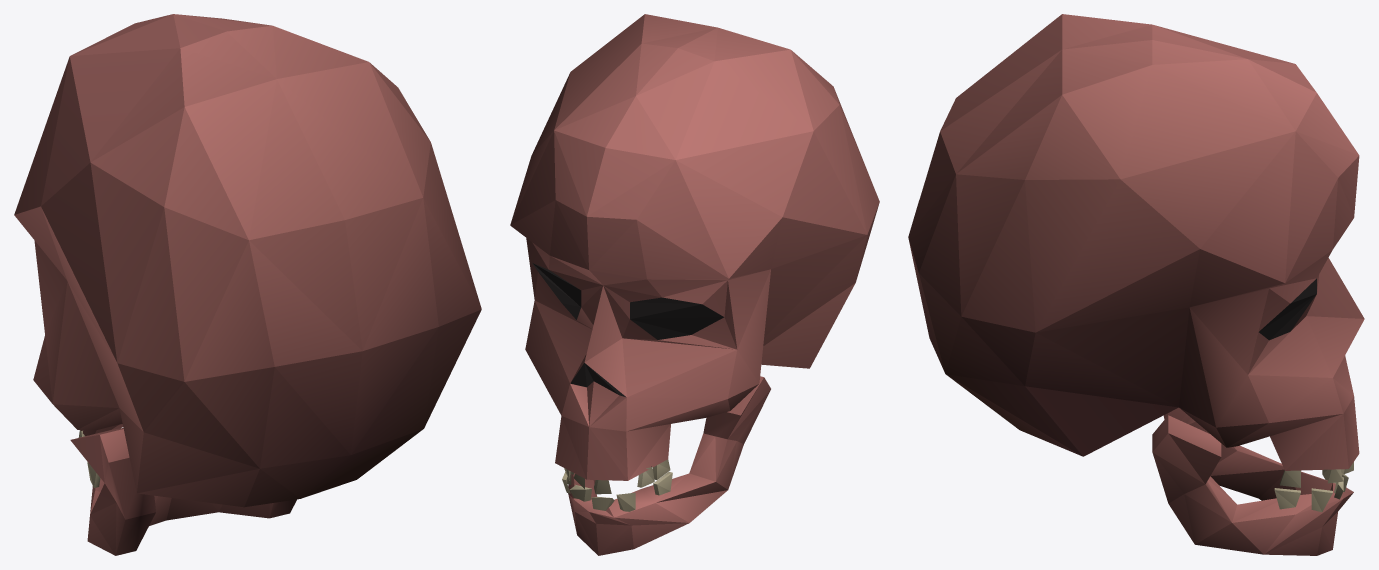
Rendered from vengeance_cast.glb.
The picture shows the model from 3 angles, left to right: view 1: azimuth 30°, elevation 25°; view 2: azimuth 150°, elevation 25°; view 3: azimuth 270°, elevation 25°; orthographic projection. The views are drawn at different scales.
Parts seen in each view (by area): view 1: Vengeance cast spotanim; view 2: Vengeance cast spotanim; view 3: Vengeance cast spotanim.
Part boxes in pixels (box(x1,y1,x2,y2)): Vengeance cast spotanim: box(14, 14, 481, 555); Vengeance cast spotanim: box(510, 14, 879, 555); Vengeance cast spotanim: box(908, 14, 1364, 555).
Bounding box in the file's own units: 68 × 106 × 86.
